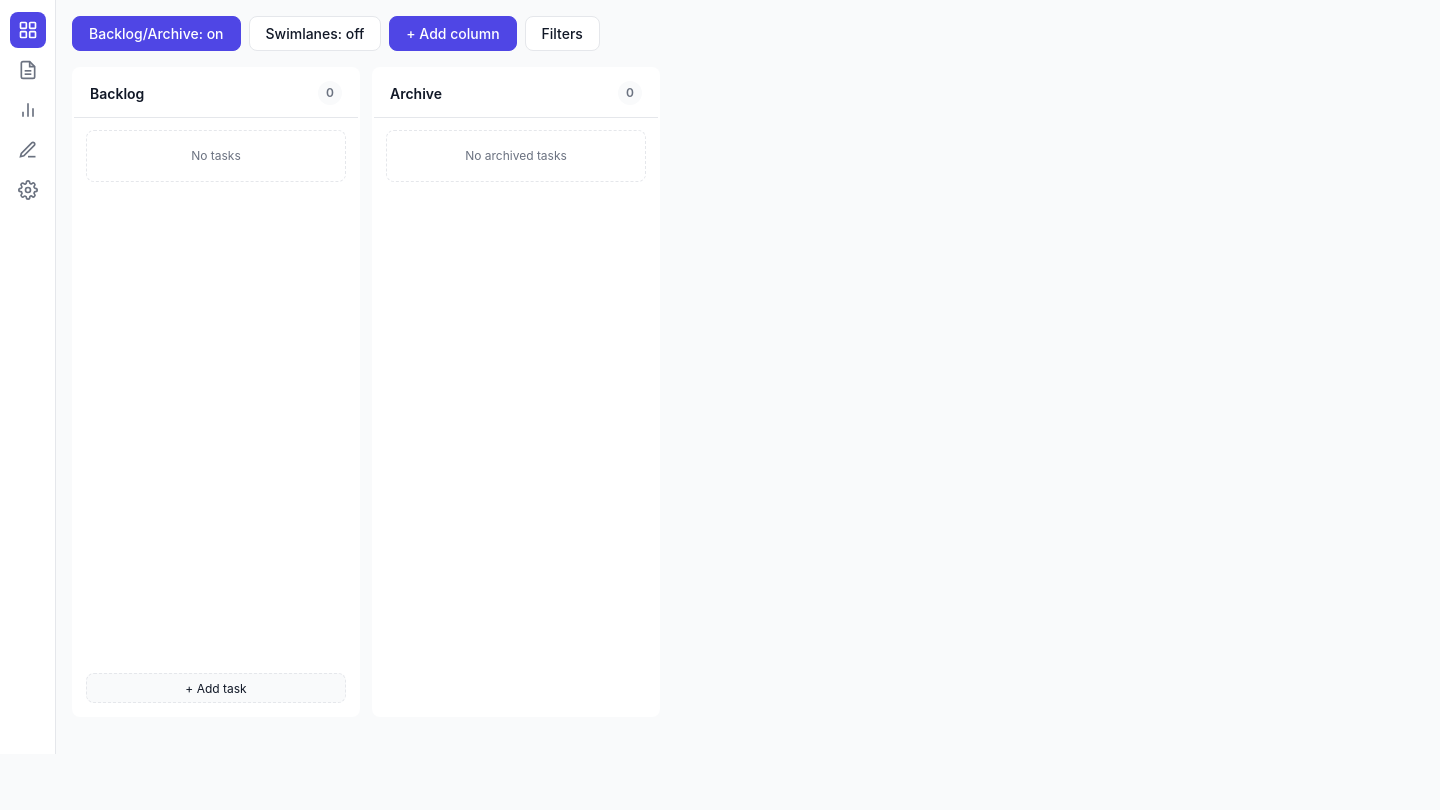
Test: BoardPage › opens the create-task modal when a column Add task button is clicked
The width and height of the screenshot is (1440, 810).
What coordinates should you click on to do the following:
click the button with class "column__add"
I would click on:
 (216, 688)
Its box is [86, 673, 346, 703].
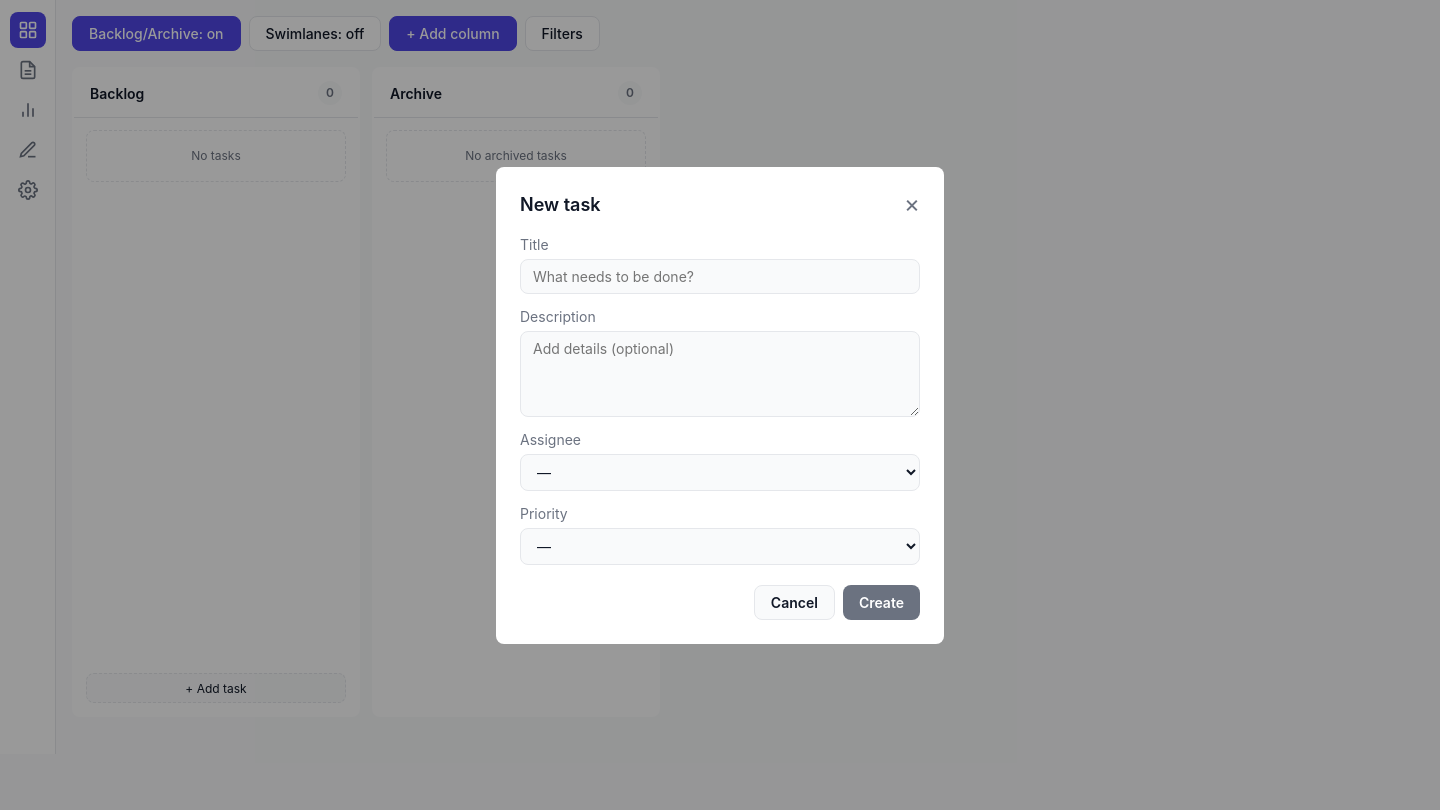
Expected: the dialog is shown
